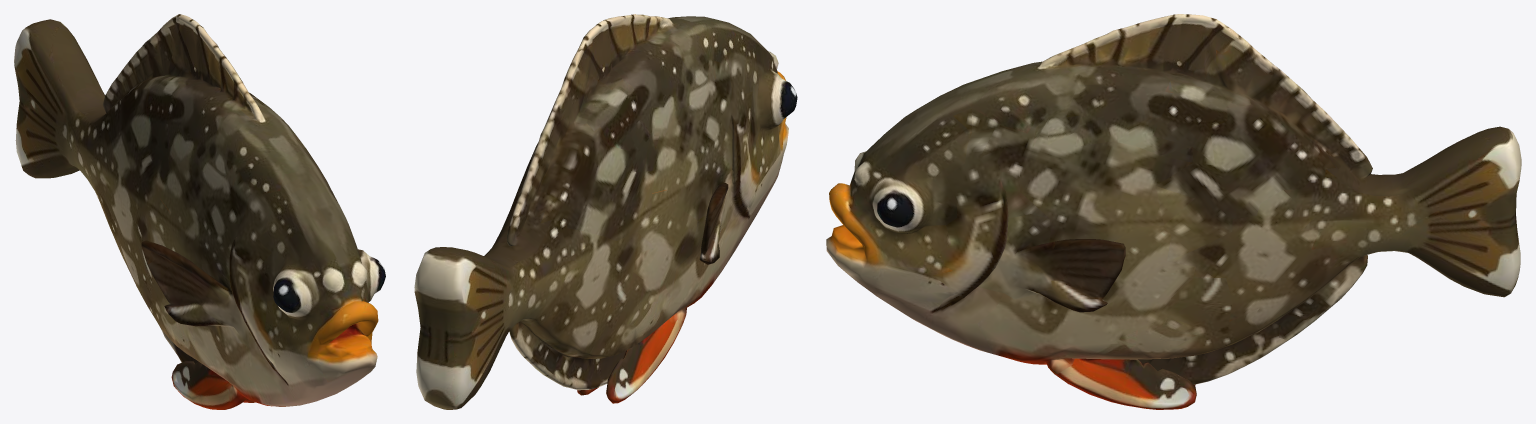
Rendered from dodari.glb.
3 views of the same model, side by side, from view 1: azimuth 30°, elevation 25°; view 2: azimuth 150°, elevation 25°; view 3: azimuth 270°, elevation 25° (orthographic). The views are drawn at different scales.
Parts seen in each view (by area): view 1: tripo_node_93599887-475b-4166-956e-9d37b471fa78; view 2: tripo_node_93599887-475b-4166-956e-9d37b471fa78; view 3: tripo_node_93599887-475b-4166-956e-9d37b471fa78.
Boxes of the visible parts, <box> form: tripo_node_93599887-475b-4166-956e-9d37b471fa78: <box>14,14,385,409</box>; tripo_node_93599887-475b-4166-956e-9d37b471fa78: <box>414,14,797,409</box>; tripo_node_93599887-475b-4166-956e-9d37b471fa78: <box>826,14,1521,409</box>.
Size of the model in its own units: 0.2854 by 0.6149 by 1.
1 material, 1 textured.
